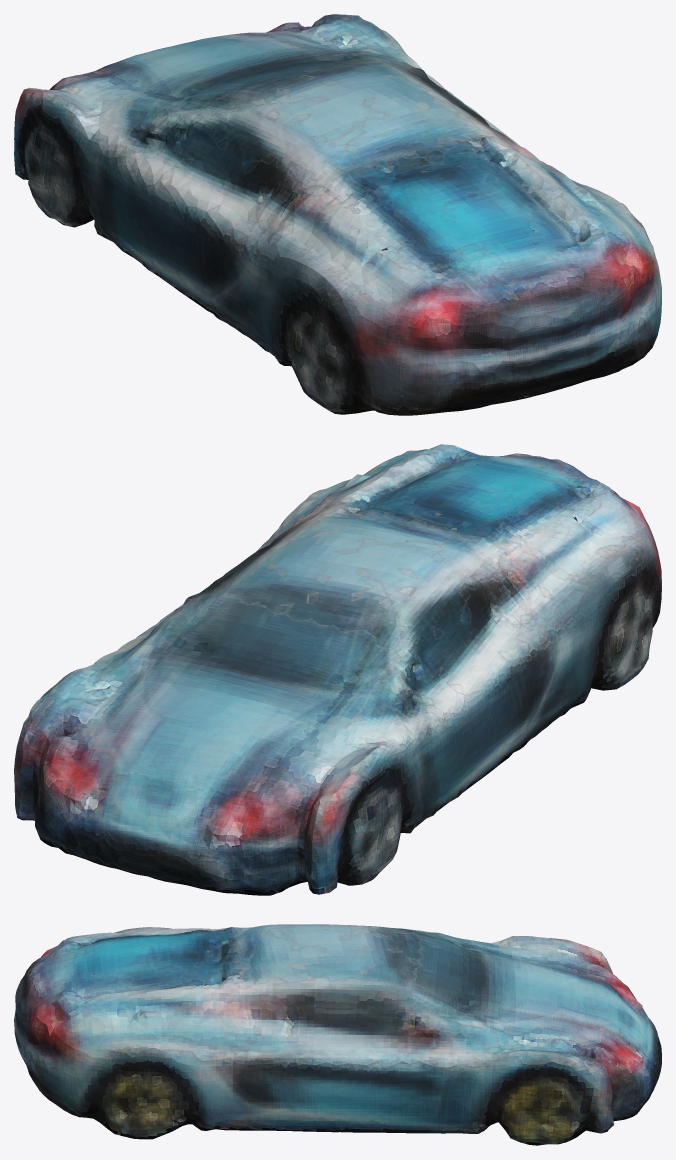
File: a supercar.glb
The picture shows the model from 3 angles, top to bottom: view 1: azimuth 30°, elevation 25°; view 2: azimuth 150°, elevation 25°; view 3: azimuth 270°, elevation 25°; orthographic projection. The views are drawn at different scales.
Bounding box in the file's own units: 0.4579 × 0.2379 × 0.9914.
Materials: 1 (1 with a texture image).
